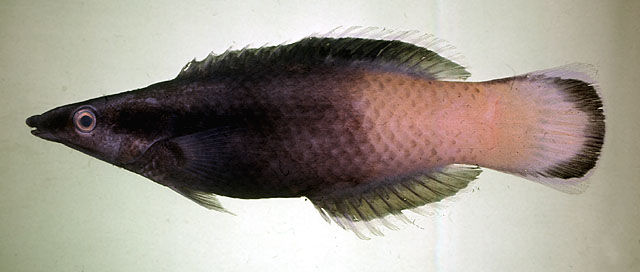fish: (26, 25, 607, 242)
